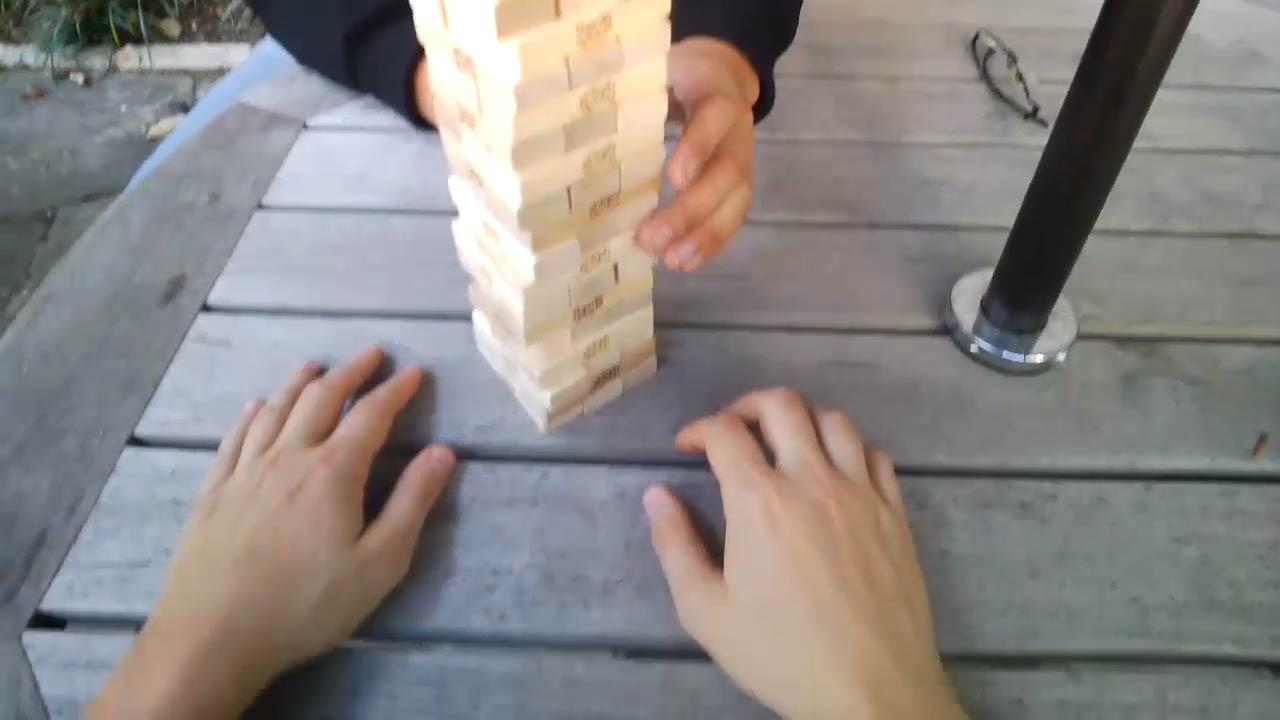hand: (150, 343, 465, 674), (637, 382, 960, 699), (661, 43, 759, 278)
